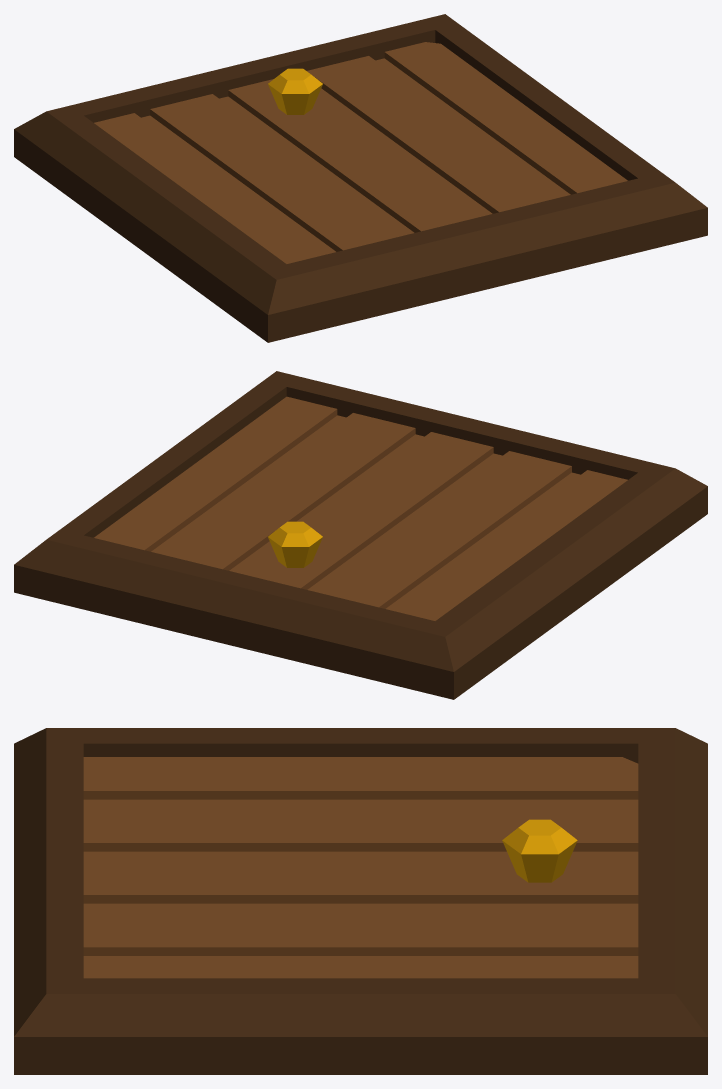
The model's file is TrapDoor.fbx.
The picture shows the model from 3 angles, top to bottom: view 1: azimuth 30°, elevation 25°; view 2: azimuth 150°, elevation 25°; view 3: azimuth 270°, elevation 25°; orthographic projection. The views are drawn at different scales.
Visible parts, largest first — view 1: Cube, Cylinder; view 2: Cube, Cylinder; view 3: Cylinder, Cube.
Part boxes in pixels (<box>): Cube: <box>14,14,707,342</box>; Cylinder: <box>94,42,627,263</box>; Cube: <box>14,371,707,699</box>; Cylinder: <box>94,396,627,620</box>; Cylinder: <box>83,757,638,978</box>; Cube: <box>14,728,707,1074</box>.
Bounding box in the file's own units: 514 × 82.34 × 514.
